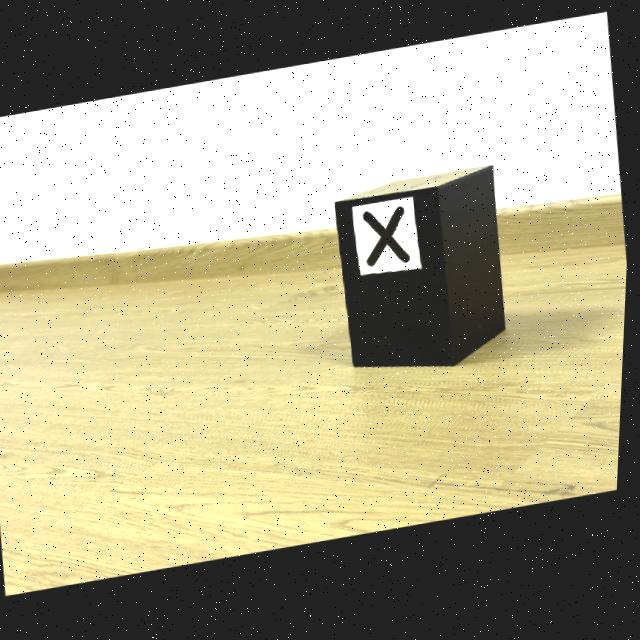X: (365, 211, 411, 270)
